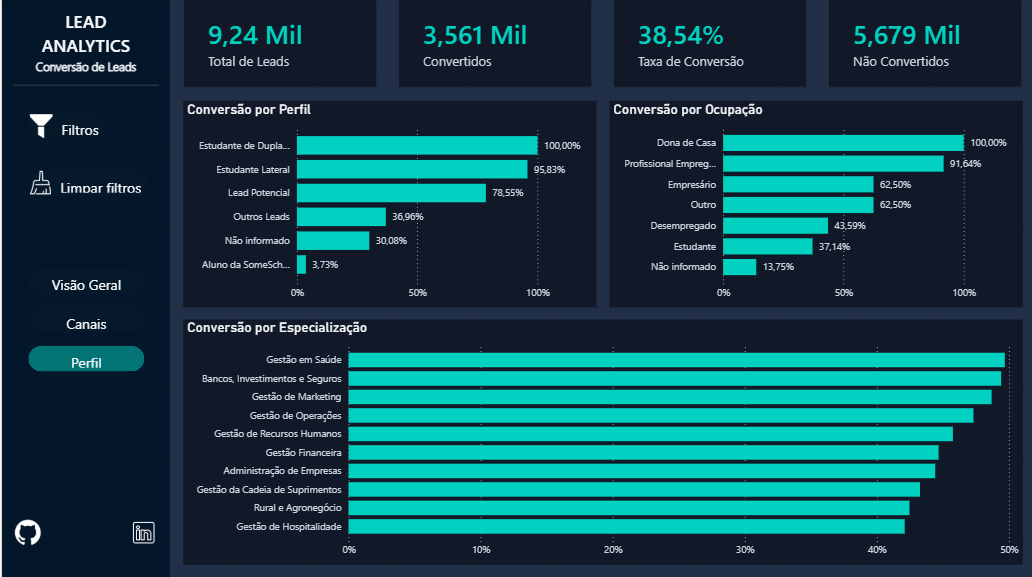

The page's visual inventory and layout, read from the dashboard file:
{"tool":"powerbi","page":{"name":"03 Perfil","canvas":[1280,720],"ordinal":2},"visuals":[{"type":"shape","box":[0,0,208,720],"z":0,"group":"g1"},{"type":"cardVisual","fields":{"Data":["leads_tratados_mvp1.Total de Leads"]},"box":[224,0,240,112],"z":0},{"type":"actionButton","title":"Filtros","box":[32,336,144,32],"z":250,"group":"g1"},{"type":"image","box":[0,640,64,48],"z":500,"group":"g1"},{"type":"actionButton","title":"Filtros","box":[32,480,144,32],"z":625,"group":"g1"},{"type":"actionButton","box":[32,384,144,32],"z":750,"group":"g1"},{"type":"actionButton","box":[32,432,144,32],"z":875,"group":"g1"},{"type":"cardVisual","fields":{"Data":["leads_tratados_mvp1.Leads Convertidos"]},"box":[490.7,0,240,112],"z":1000},{"type":"textbox","box":[0,10.8,207.8,89.1],"z":1000,"group":"g1"},{"type":"textbox","box":[0,70.7,208,41.8],"z":2000,"group":"g1"},{"type":"barChart","title":"Conversão por Ocupação","fields":{"Category":["leads_tratados_mvp1.ocupacao_atual"],"Y":["leads_tratados_mvp1.Taxa de Conversão"]},"box":[752,128,512,256],"z":2000},{"type":"cardVisual","fields":{"Data":["leads_tratados_mvp1.Leads Não Convertidos"]},"box":[1024,0,240,112],"z":3000},{"type":"shape","box":[13.3,69.3,180.2,79.4],"z":3000,"group":"g1"},{"type":"cardVisual","fields":{"Data":["leads_tratados_mvp1.Taxa de Conversão"]},"box":[757.3,0,240,112],"z":4000},{"type":"actionButton","title":"Filtros","box":[32,144,96,32],"z":4000,"group":"g1"},{"type":"barChart","title":"Conversão por Perfil","fields":{"Category":["leads_tratados_mvp1.perfil_do_lead"],"Y":["leads_tratados_mvp1.Taxa de Conversão"]},"box":[224,128,512,256],"z":5000},{"type":"image","box":[32,144,32,32],"z":5000,"group":"g1"},{"type":"actionButton","title":"Filtros","box":[37,215,144,32],"z":5500,"group":"g1"},{"type":"image","box":[160,640,32,48],"z":5750,"group":"g1"},{"type":"image","box":[32,215,32,32],"z":6000,"group":"g1"},{"type":"image","box":[32,144,32,32],"z":8000},{"type":"barChart","title":"Conversão por Especialização","fields":{"Y":["leads_tratados_mvp1.Taxa de Conversão"],"Category":["leads_tratados_mvp1.especializacao"]},"box":[224,400,1040,304],"z":9000},{"type":"group","id":"g1","title":"Grupo 2","box":[0,0,208,720],"z":11000}]}

Visuals, with their boxes on the page's 1280x720 design canvas (x1, y1, x2, y2). These are canvas units, not pixel positions in the 1032x577 screenshot, which may show the page scaled, cropped or inside an application window:
shape: region(0, 0, 208, 720)
cardVisual - leads_tratados_mvp1.Total de Leads: region(224, 0, 464, 112)
"Filtros" actionButton: region(32, 336, 176, 368)
image: region(0, 640, 64, 688)
"Filtros" actionButton: region(32, 480, 176, 512)
actionButton: region(32, 384, 176, 416)
actionButton: region(32, 432, 176, 464)
cardVisual - leads_tratados_mvp1.Leads Convertidos: region(491, 0, 731, 112)
textbox: region(0, 11, 208, 100)
textbox: region(0, 71, 208, 112)
"Conversão por Ocupação" barChart: region(752, 128, 1264, 384)
cardVisual - leads_tratados_mvp1.Leads Não Convertidos: region(1024, 0, 1264, 112)
shape: region(13, 69, 194, 149)
cardVisual - leads_tratados_mvp1.Taxa de Conversão: region(757, 0, 997, 112)
"Filtros" actionButton: region(32, 144, 128, 176)
"Conversão por Perfil" barChart: region(224, 128, 736, 384)
image: region(32, 144, 64, 176)
"Filtros" actionButton: region(37, 215, 181, 247)
image: region(160, 640, 192, 688)
image: region(32, 215, 64, 247)
image: region(32, 144, 64, 176)
"Conversão por Especialização" barChart: region(224, 400, 1264, 704)
"Grupo 2" group: region(0, 0, 208, 720)
